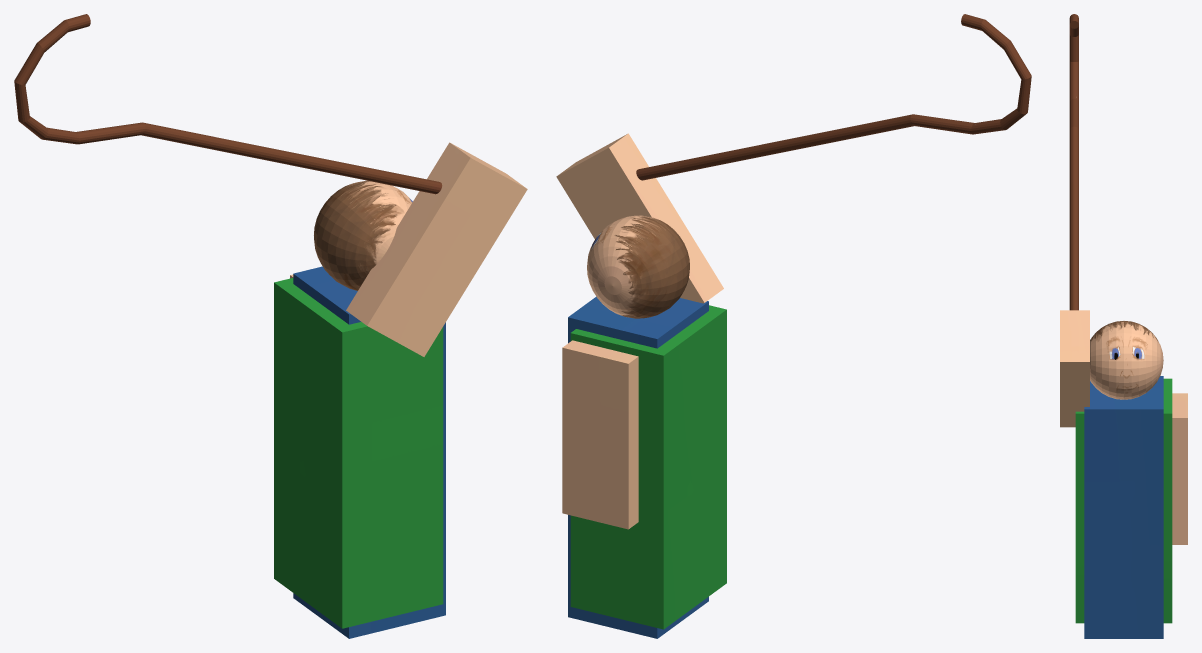
File: shepArmUp.fbx
The picture shows the model from 3 angles, left to right: view 1: azimuth 30°, elevation 25°; view 2: azimuth 150°, elevation 25°; view 3: azimuth 270°, elevation 25°; orthographic projection. The views are drawn at different scales.
Parts seen in each view (by area): view 1: Sphere; view 2: Sphere; view 3: Sphere.
Boxes of the visible parts, x1,y1,x2,y2 form: Sphere: (14, 14, 527, 638); Sphere: (556, 14, 1031, 638); Sphere: (1060, 14, 1187, 638).
Bounding box in the file's own units: 1037 × 1371 × 323.
Materials: 1 (1 with a texture image).
